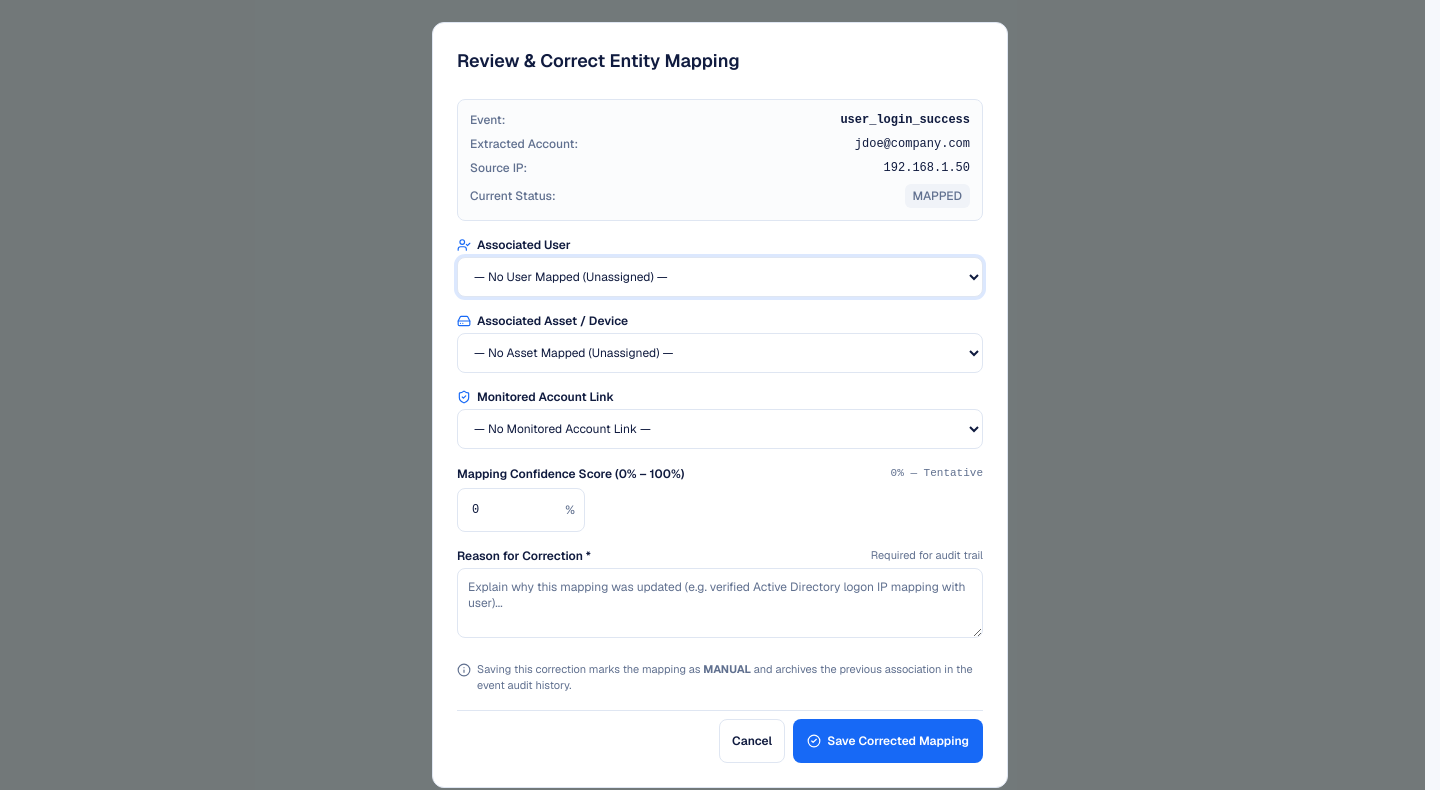
Scenario: EditEntityMappingDialog › validates that at least one entity is selected before submitting
The width and height of the screenshot is (1440, 790).
Enter reason
Replace the text in the text box labelled "Reason for Correction * Required for audit trail" with "Trying to submit unmapped": [720, 603] box [457,568,983,638]
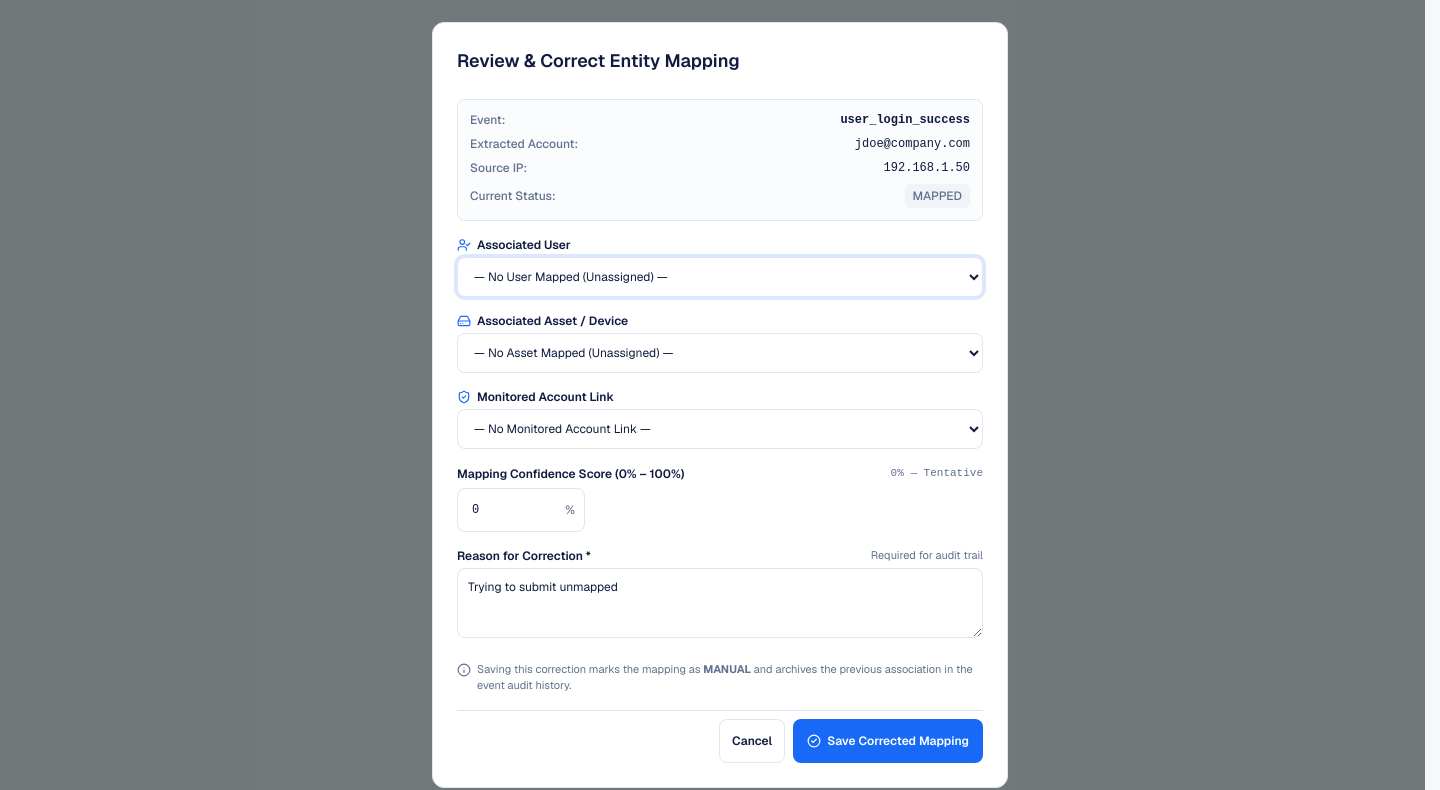
Submit form
Click the button "Save Corrected Mapping": [888, 741] box [793,719,983,763]
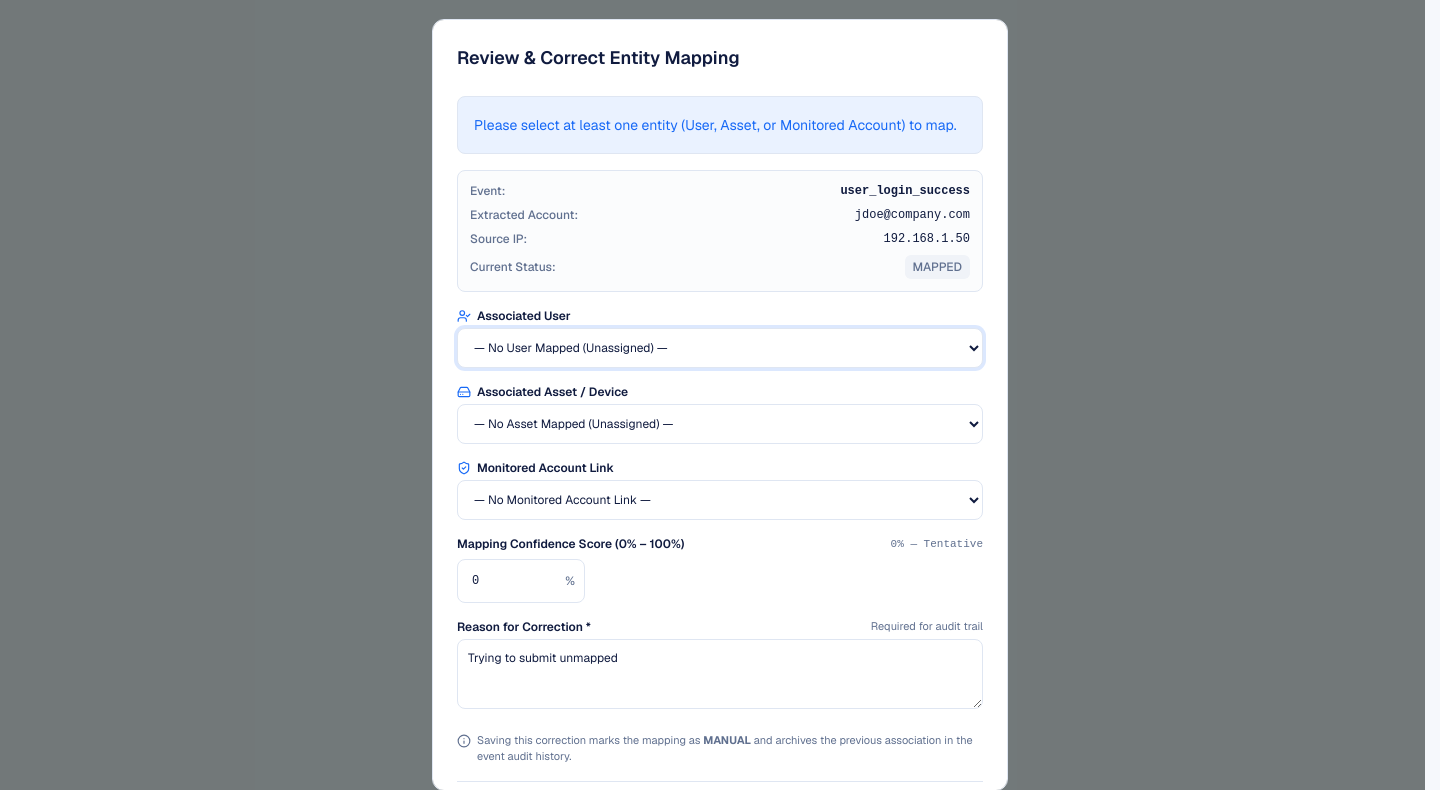
Expected: the text "Please select at least one entity (User, Asset, or Monitored Account) to map." is shown, [457,96,983,154]
